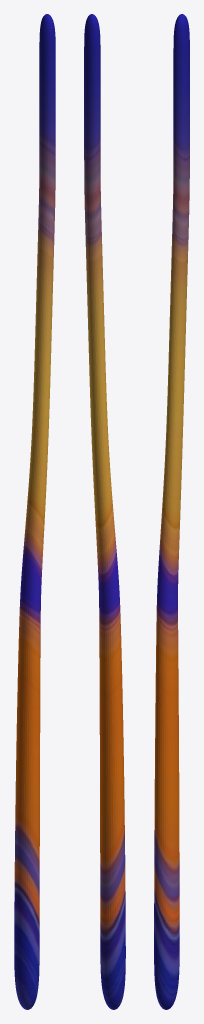
The model's file is testTree3.glb.
3 views of the same model, side by side, from view 1: azimuth 30°, elevation 25°; view 2: azimuth 210°, elevation 25°; view 3: azimuth 330°, elevation 25° (orthographic).
Parts seen in each view (by area): view 1: Cube.003; view 2: Cube.003; view 3: Cube.003.
Part boxes in pixels (left/top/right/bottom): Cube.003: left=14, top=14, right=55, bottom=1009; Cube.003: left=84, top=14, right=125, bottom=1009; Cube.003: left=154, top=14, right=189, bottom=1009.
Size of the model in its own units: 0.3678 by 10.3 by 0.2903.
Materials: 1 (1 with a texture image).
